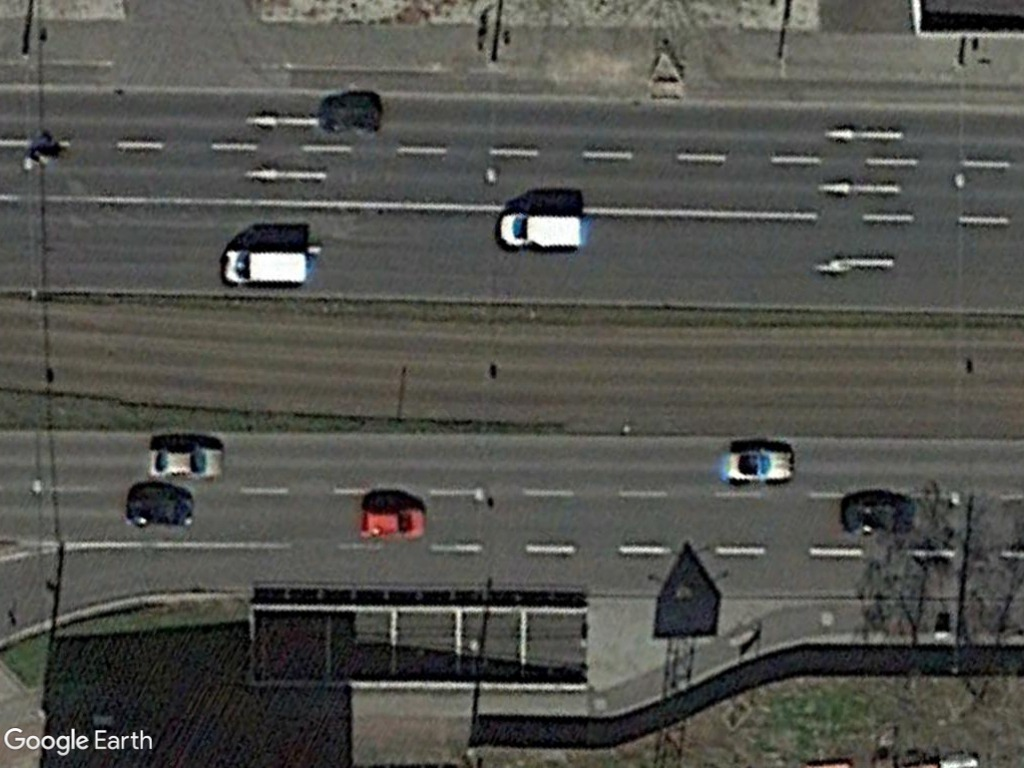car: (140, 442, 229, 480)
van: (215, 244, 311, 288), (496, 211, 587, 251)
